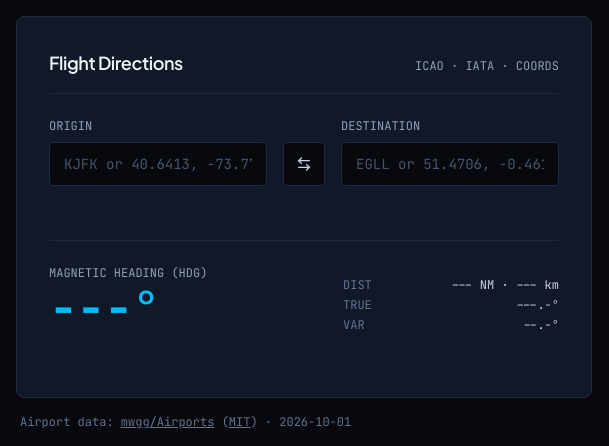
App › invalid location input › names the problem for 91, 0 and marks it after leaving the field
The width and height of the screenshot is (609, 446).
Later steps or results of the test are not shown.
In the field labelled "ORIGIN": (158, 164) [49,142,267,186], type "91, 0"
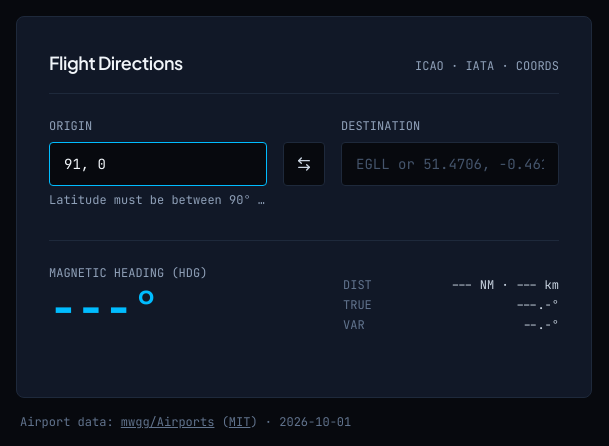
Check: the text "Latitude must be between 90° S and 90° N" is shown, box [49,192,267,208]
